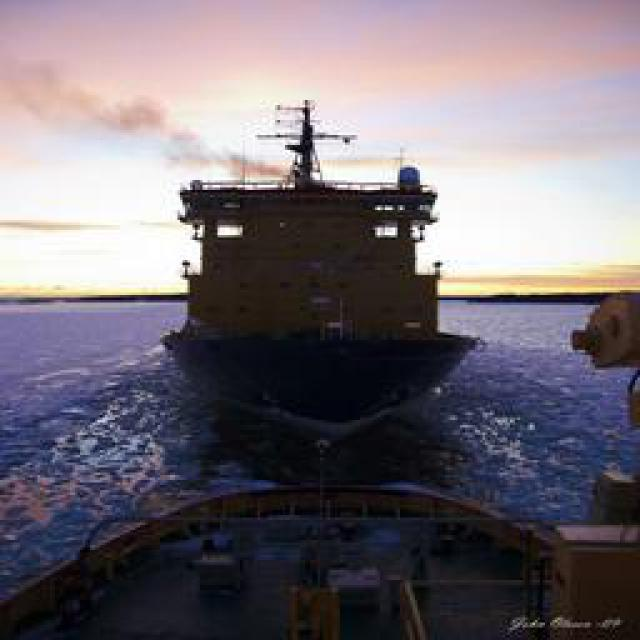Ship: (153, 86, 486, 463)
